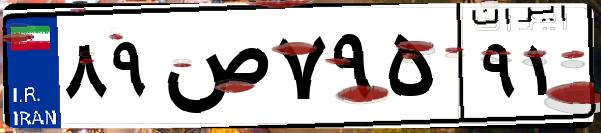1: (525, 38, 570, 115)
5: (385, 28, 445, 110)
7: (270, 28, 330, 110)
8: (57, 26, 110, 100)
9: (330, 28, 385, 110), (475, 38, 525, 113), (110, 28, 158, 98)
ص: (158, 20, 270, 120)
